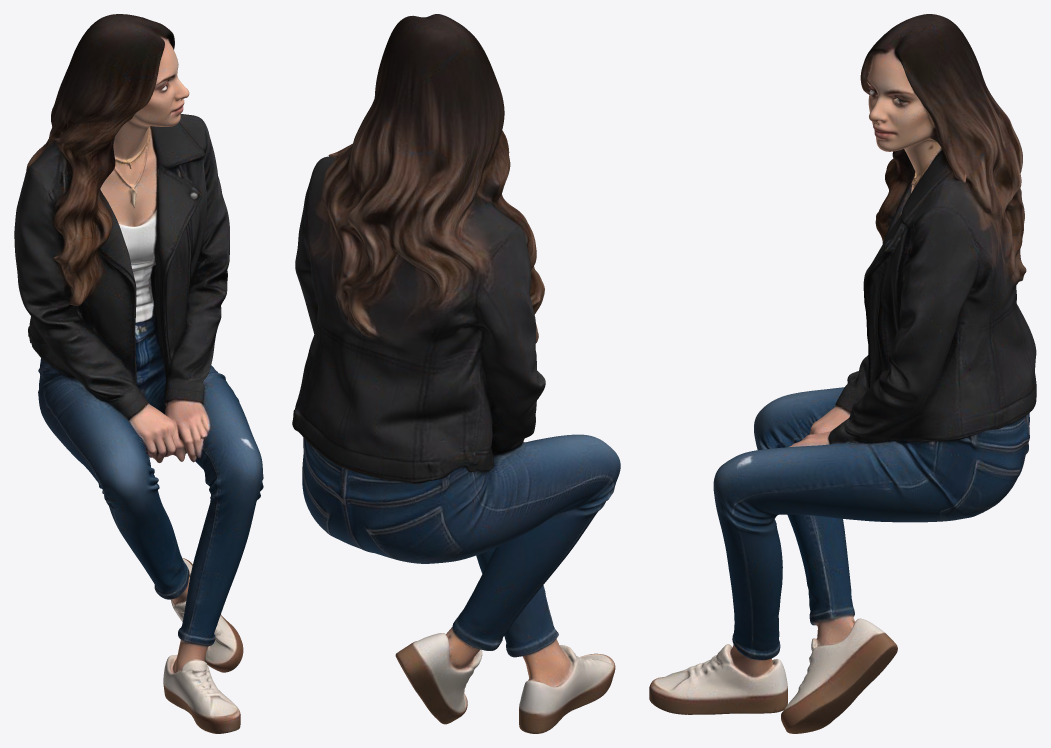
The model's file is sitLeather.glb.
3 views of the same model, side by side, from view 1: azimuth 30°, elevation 25°; view 2: azimuth 150°, elevation 25°; view 3: azimuth 270°, elevation 25° (orthographic). The views are drawn at different scales.
Parts seen in each view (by area): view 1: Object_6, Object_5, Object_7; view 2: Object_5, Object_6, Object_7; view 3: Object_5, Object_6, Object_7.
Boxes of the visible parts, left/top/right/bottom form: Object_6: left=14, top=30, right=251, bottom=672; Object_5: left=16, top=14, right=263, bottom=733; Object_7: left=98, top=408, right=263, bottom=713; Object_5: left=292, top=14, right=615, bottom=713; Object_6: left=293, top=14, right=618, bottom=724; Object_7: left=462, top=434, right=620, bottom=733; Object_5: left=649, top=14, right=1036, bottom=714; Object_6: left=773, top=33, right=1028, bottom=733; Object_7: left=688, top=391, right=822, bottom=714.
Size of the model in its own units: 0.6181 by 1.9 by 0.9596.
Materials: 1 (1 with a texture image).
